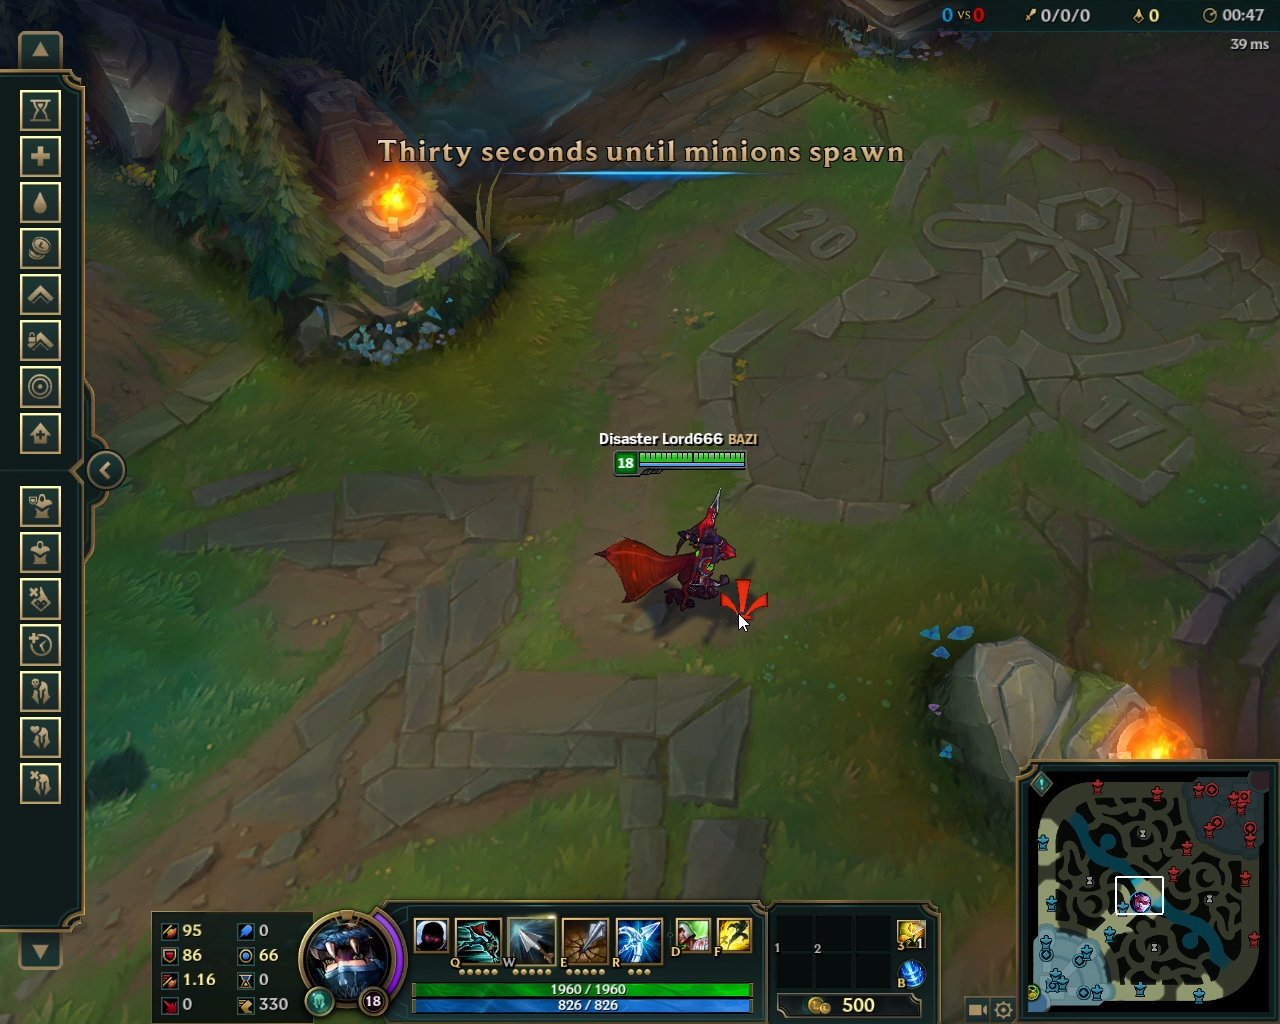Vayne: (590, 487, 738, 616)
